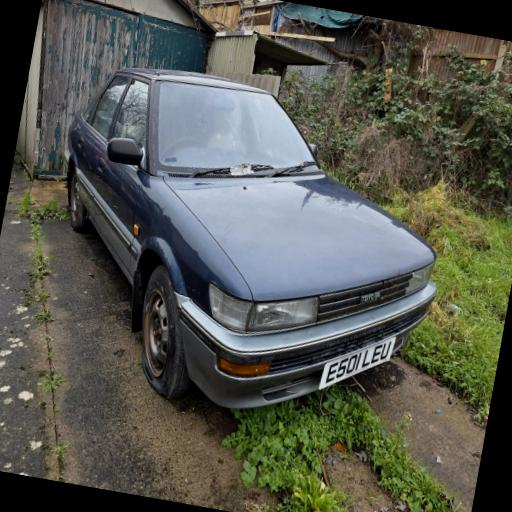numberplates: (320, 337, 395, 388)
